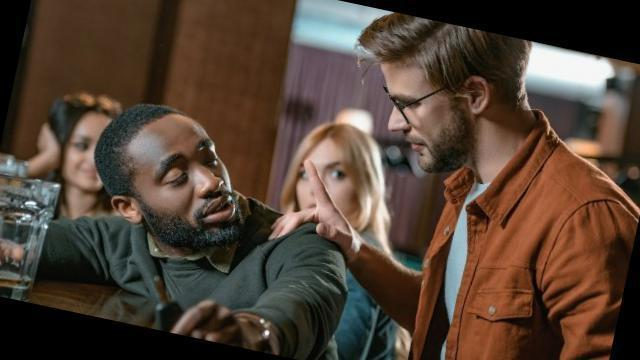Drunk: (149, 119, 240, 240)
